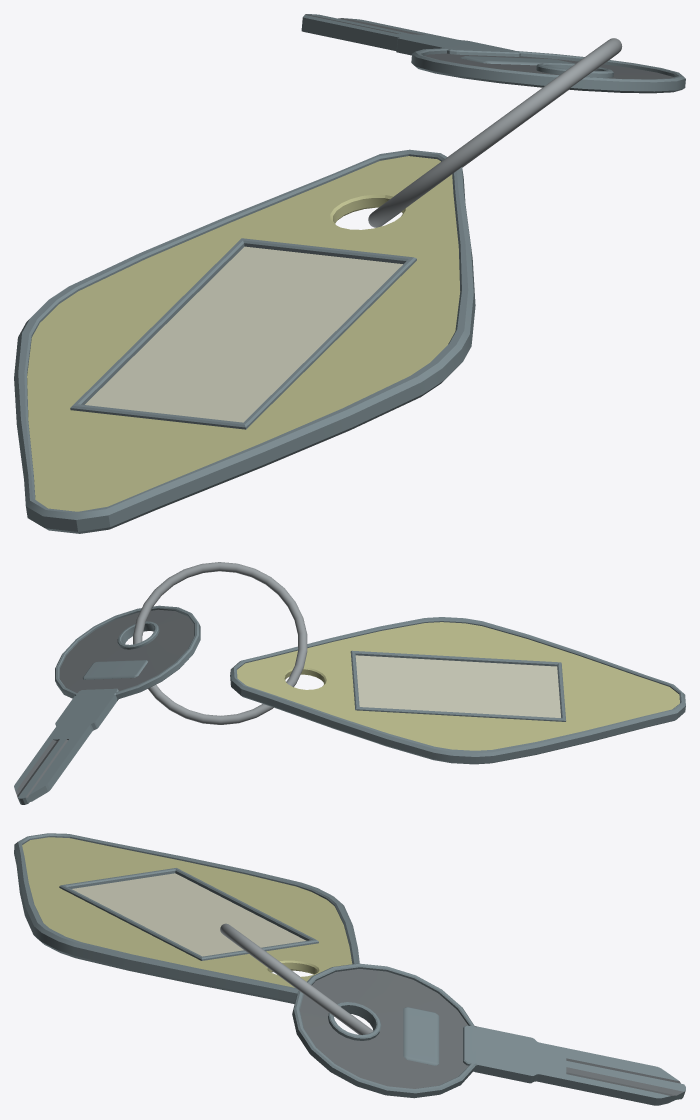
Rendered from Key_Asset 1.fbx.
3 renders of one model, top to bottom at view 1: azimuth 30°, elevation 25°; view 2: azimuth 150°, elevation 25°; view 3: azimuth 270°, elevation 25°, orthographic. The views are drawn at different scales.
Parts seen in each view (by area): view 1: pCylinder122; view 2: pCylinder122; view 3: pCylinder122.
Part boxes in pixels (x1,y1,x2,y2): pCylinder122: (14,14,685,533); pCylinder122: (14,562,685,804); pCylinder122: (14,833,685,1105).
Bounding box in the file's own units: 7.25 × 1.68 × 6.96.
